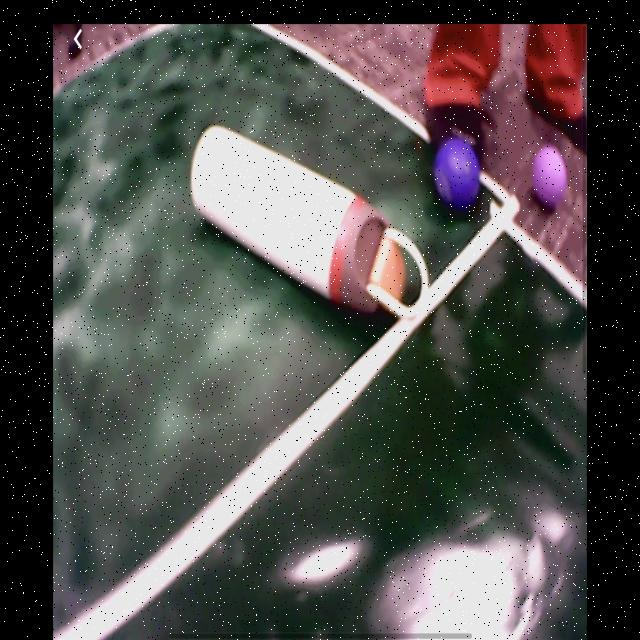ball: (434, 140, 480, 212), (531, 146, 566, 210)
